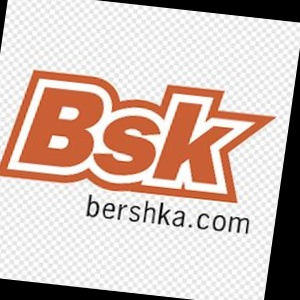bershka: (269, 56, 289, 127)
